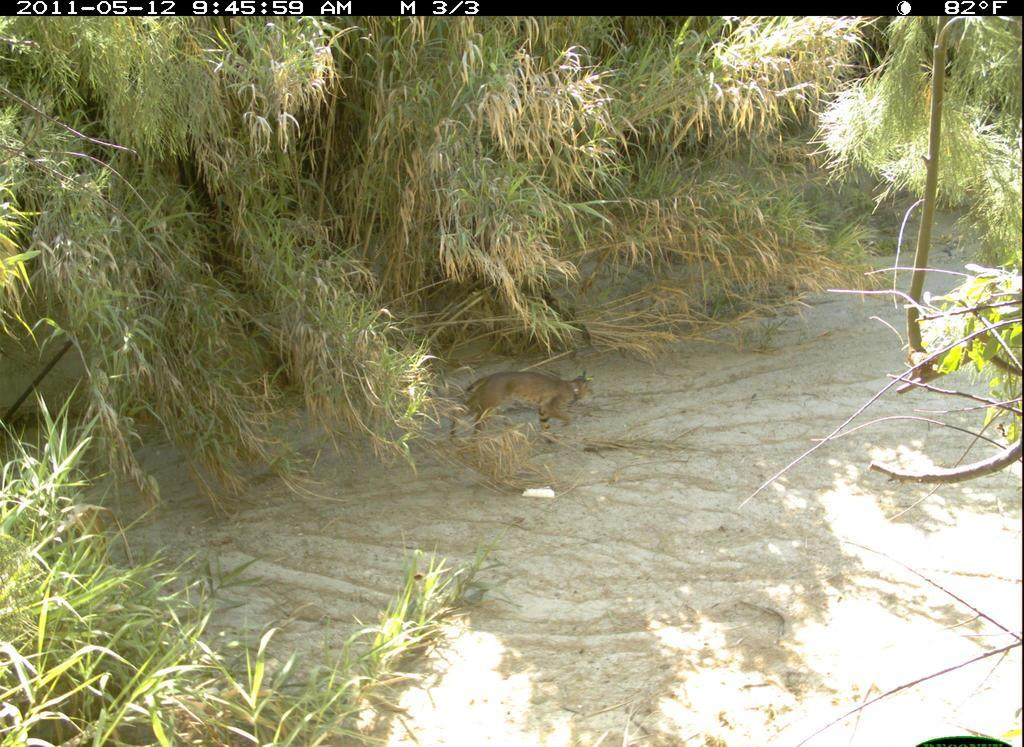bobcat: (433, 358, 616, 468)
